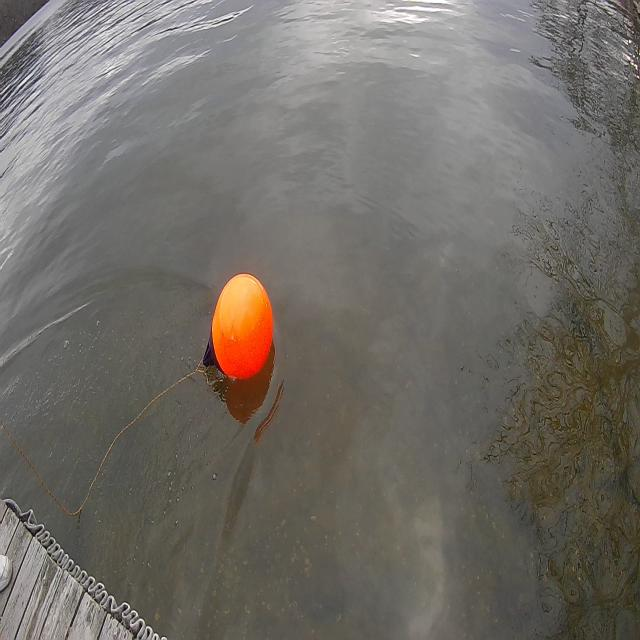Buoy: (199, 269, 277, 390)
